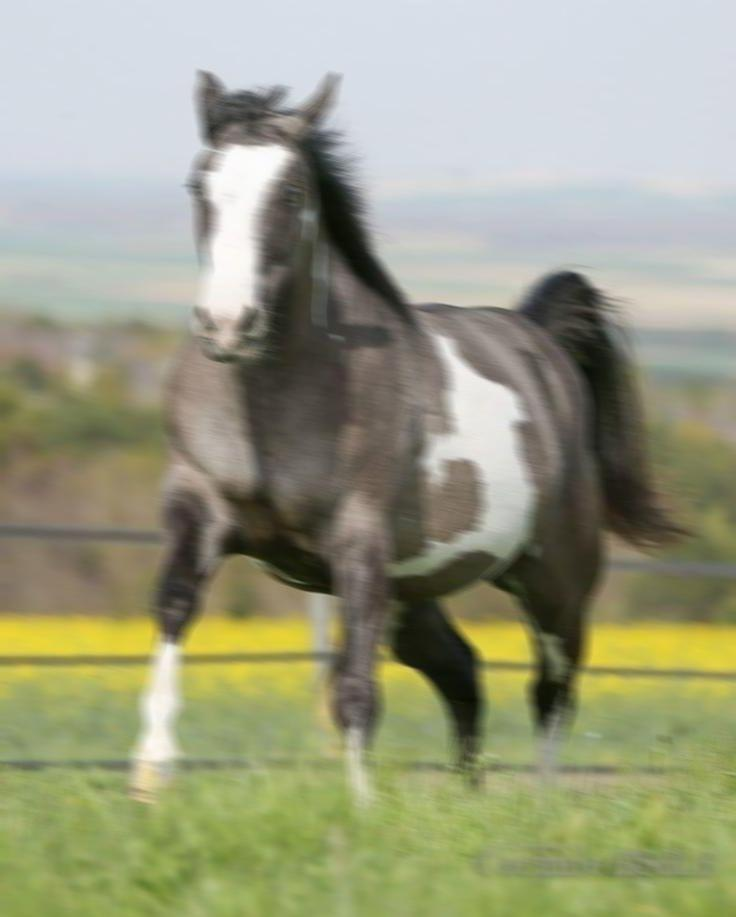horse: (122, 67, 700, 812)
